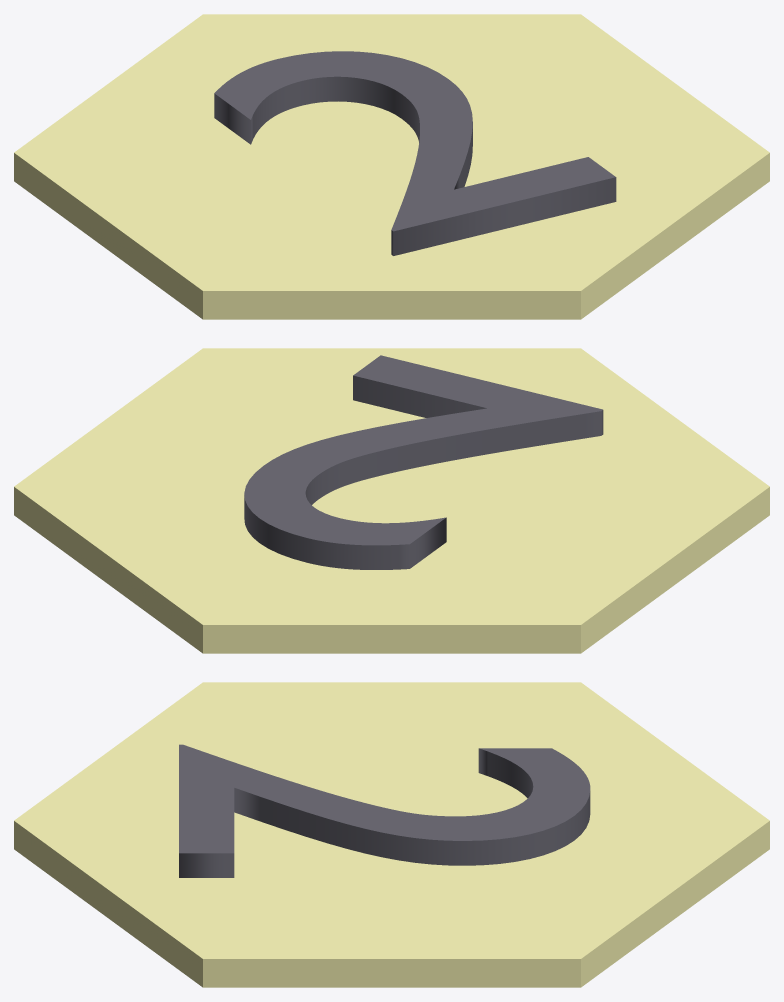
File: station_2.dae
The picture shows the model from 3 angles, top to bottom: view 1: azimuth 30°, elevation 25°; view 2: azimuth 150°, elevation 25°; view 3: azimuth 270°, elevation 25°; orthographic projection.
Parts seen in each view (by area): view 1: Text; view 2: Text; view 3: Text.
Boxes of the visible parts, x1,y1,x2,y2 form: Text: (14, 14, 769, 319); Text: (14, 348, 769, 653); Text: (14, 682, 769, 987).
Size of the model in its own units: 0.7359 by 0.8498 by 0.0662.
